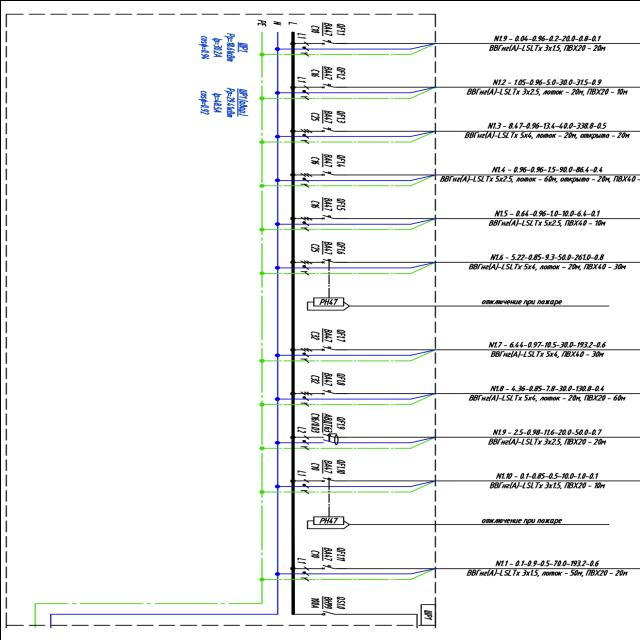-: (306, 410, 332, 432), (308, 456, 334, 474), (307, 150, 333, 168), (307, 368, 333, 386), (307, 592, 333, 610), (307, 325, 333, 343), (308, 237, 334, 255), (308, 63, 333, 81), (308, 106, 332, 124), (308, 194, 332, 212), (308, 544, 332, 562), (310, 19, 332, 37), (422, 608, 434, 620)
ITU: (310, 296, 344, 306), (311, 514, 345, 524)
QF: (299, 170, 333, 177), (302, 82, 334, 89), (298, 126, 335, 132), (298, 344, 334, 350), (298, 388, 334, 394), (300, 258, 334, 264), (300, 214, 334, 220), (302, 476, 335, 482), (302, 38, 334, 44), (302, 564, 334, 570)
QFD: (300, 432, 338, 444)
QW: (318, 609, 336, 616)
